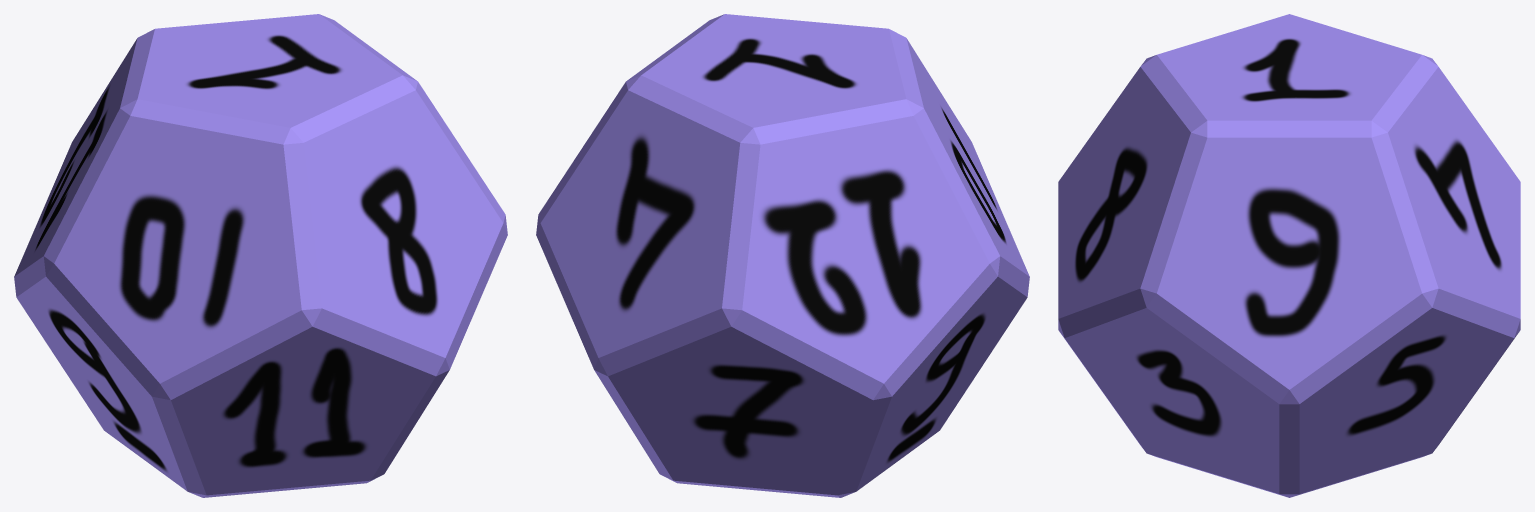
File: d_twelve.fbx
3 renders of one model, left to right at view 1: azimuth 30°, elevation 25°; view 2: azimuth 150°, elevation 25°; view 3: azimuth 270°, elevation 25°, orthographic. The views are drawn at different scales.
Parts seen in each view (by area): view 1: Icosphere; view 2: Icosphere; view 3: Icosphere.
Boxes of the visible parts, x1,y1,x2,y2 form: Icosphere: (14, 14, 507, 497); Icosphere: (536, 14, 1029, 497); Icosphere: (1058, 14, 1520, 497).
Size of the model in its own units: 1.58 by 1.31 by 1.5.
